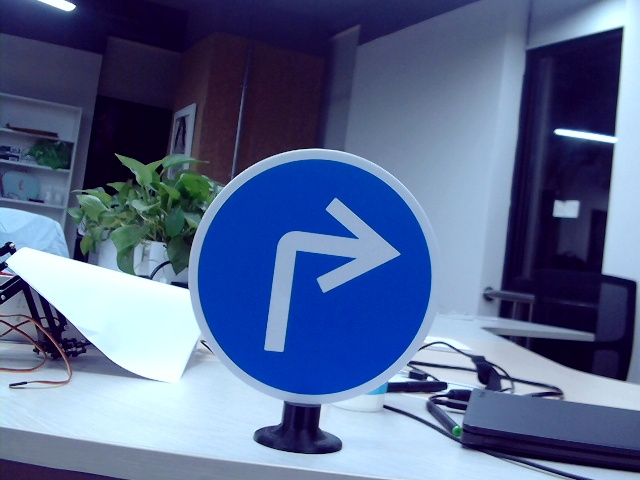turn_right: (266, 191, 394, 350)
